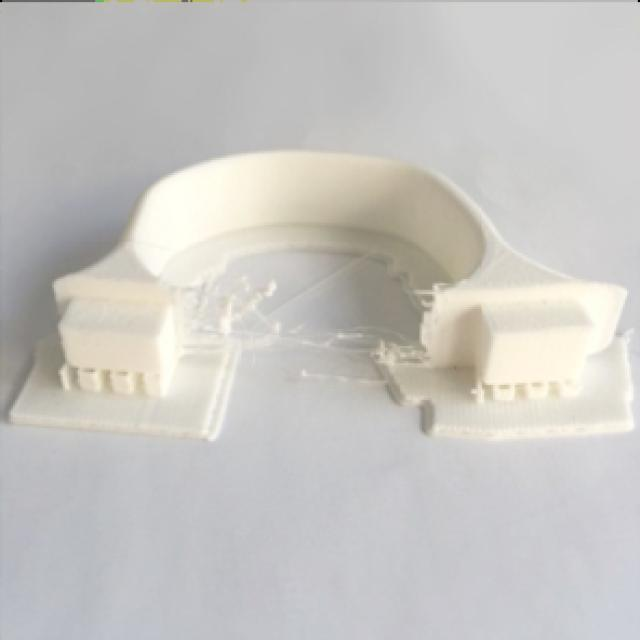stringing: (216, 261, 372, 378), (406, 273, 441, 329)
